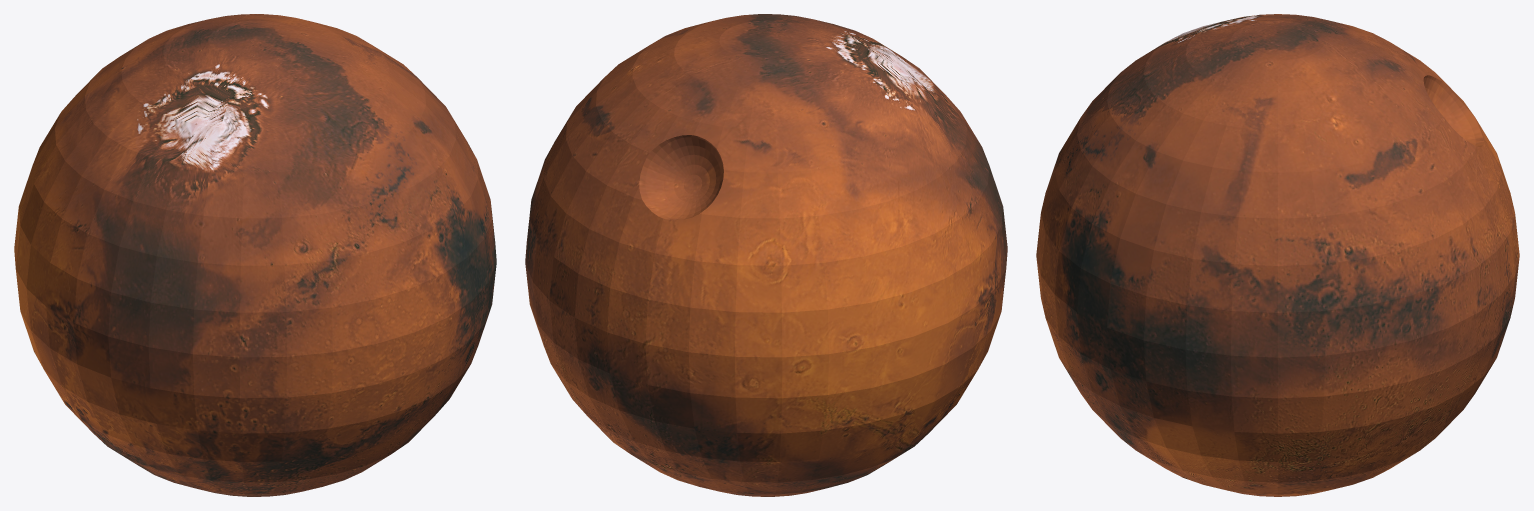
File: dstar.obj
3 renders of one model, left to right at view 1: azimuth 30°, elevation 25°; view 2: azimuth 150°, elevation 25°; view 3: azimuth 270°, elevation 25°, orthographic.
Visible parts, largest first — view 1: Sphere; view 2: Sphere; view 3: Sphere.
Boxes of the visible parts, bbox=[...] form: Sphere: bbox=[14, 14, 496, 496]; Sphere: bbox=[525, 14, 1007, 496]; Sphere: bbox=[1036, 14, 1519, 496].
Bounding box in the file's own units: 2 × 2 × 2.
1 material, 1 textured.
